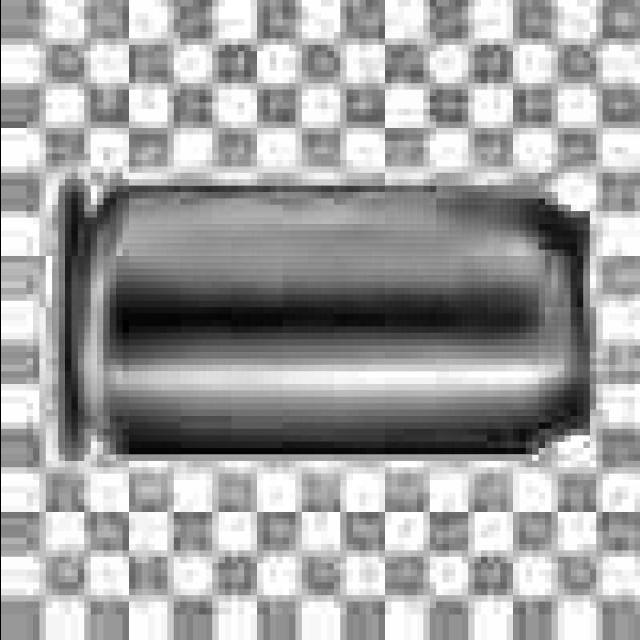Aluminum Can: (54, 178, 616, 474)
